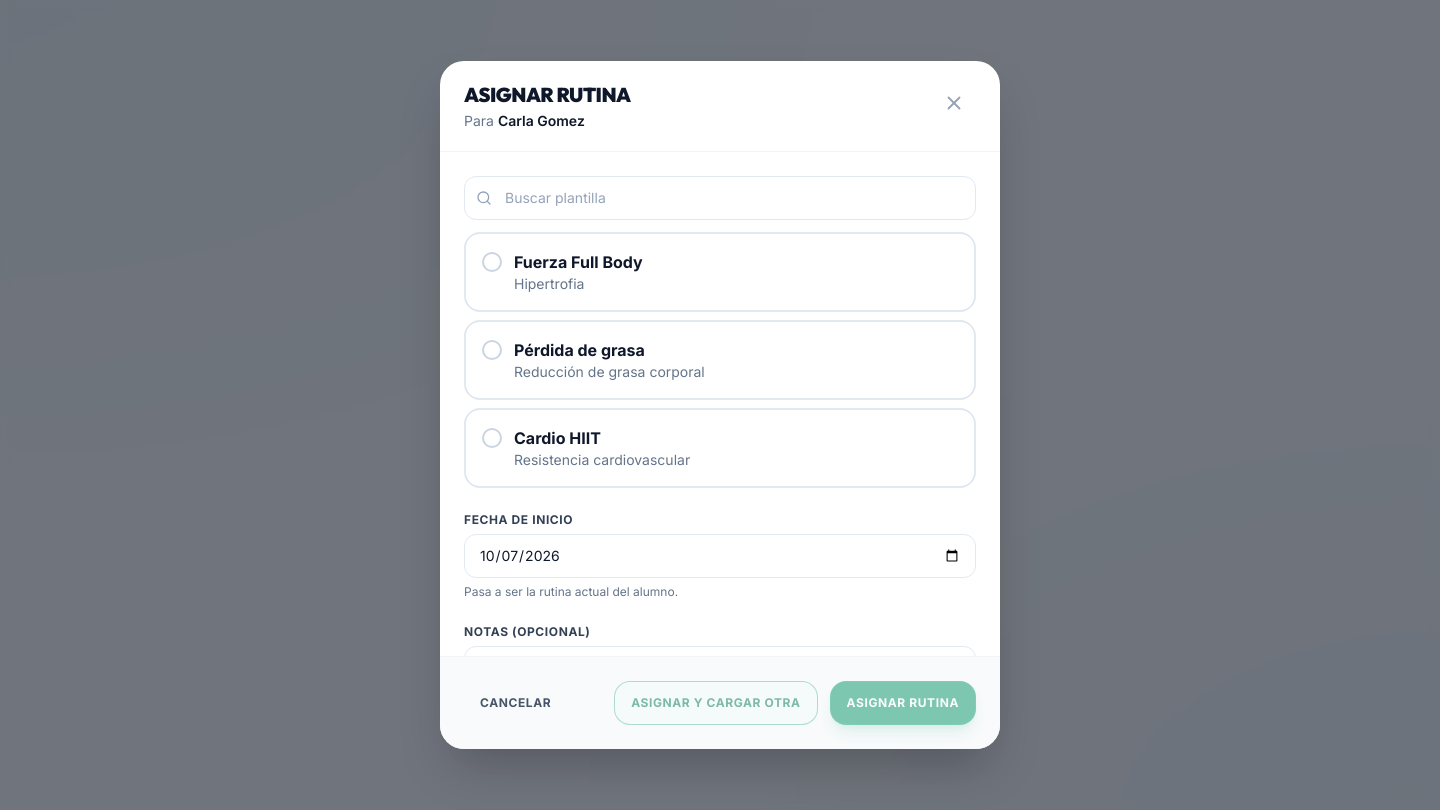
Scenario: AssignRoutineModal - buscador de plantillas (AC-0007-10) › muestra "No hay plantillas que coincidan" si no hay resultados
The width and height of the screenshot is (1440, 810).
Expected: the element named "Plantillas de rutina" is shown, x1=464 y1=232 x2=976 y2=488
In the field with placeholder "Buscar plantilla": (720, 198) x1=464 y1=176 x2=976 y2=220, type "zzz-inexistente"
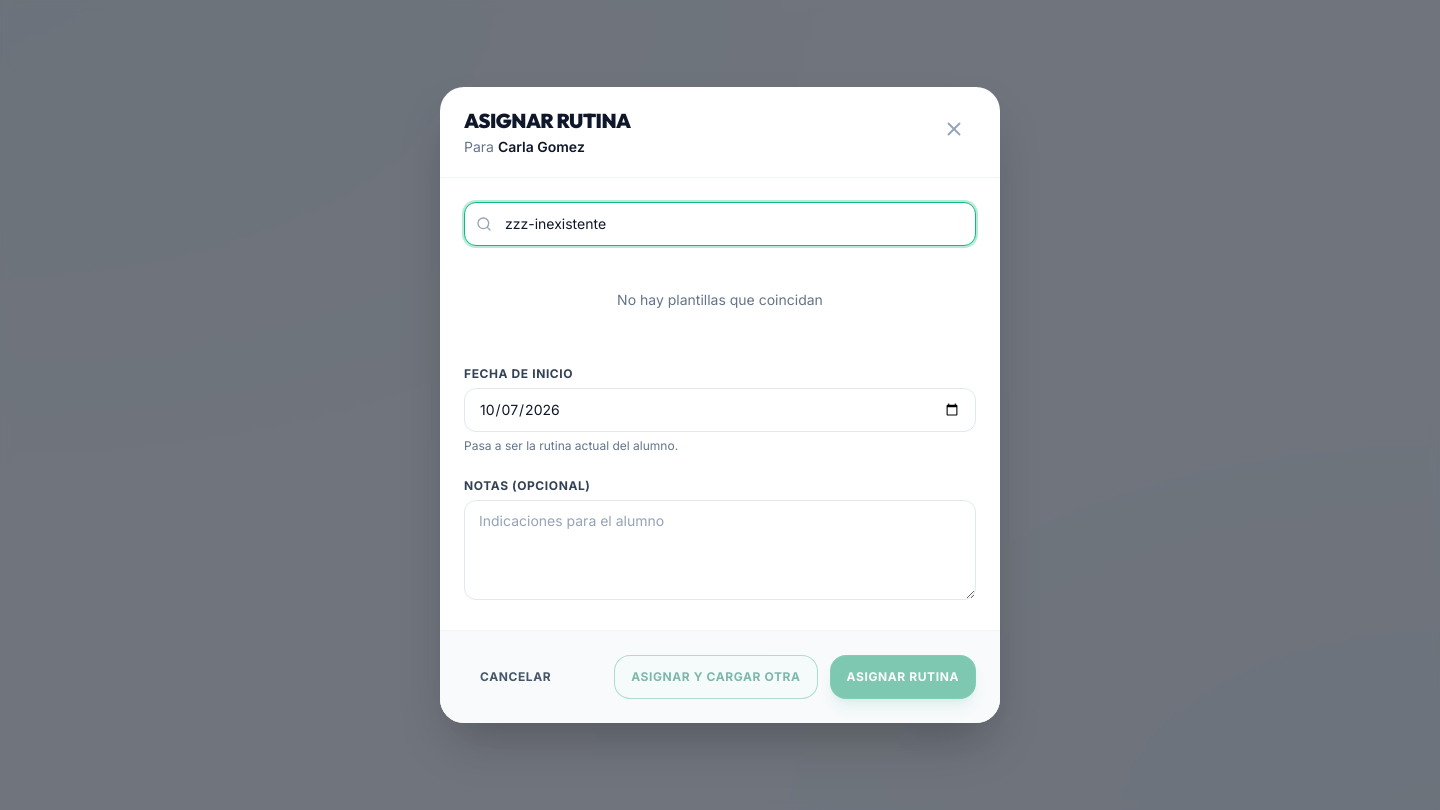
Expected: the text "No hay plantillas que coincidan" is shown, x1=617 y1=291 x2=823 y2=308
